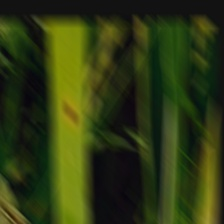Bacterial_Leaf_Blight: (62, 95, 81, 128)
